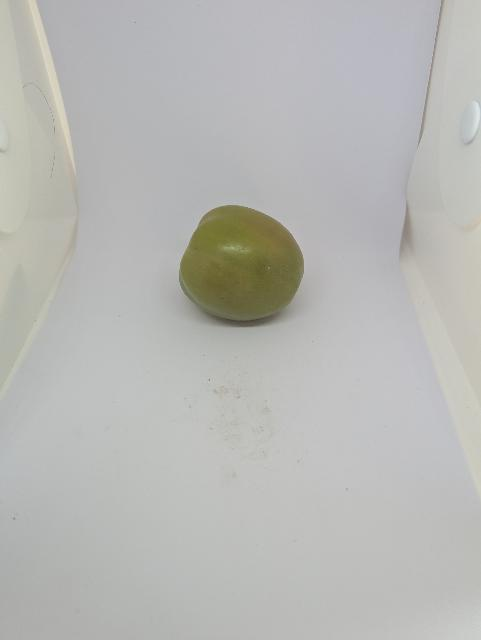green: (169, 185, 313, 336)
